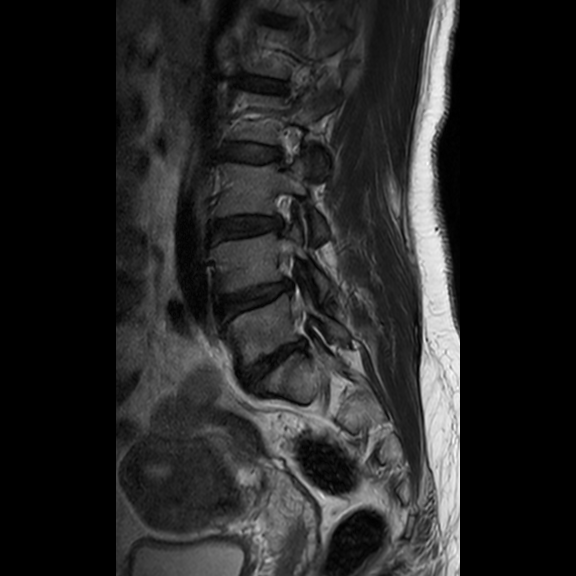RFS0: (261, 185, 315, 242), (263, 117, 317, 174)
